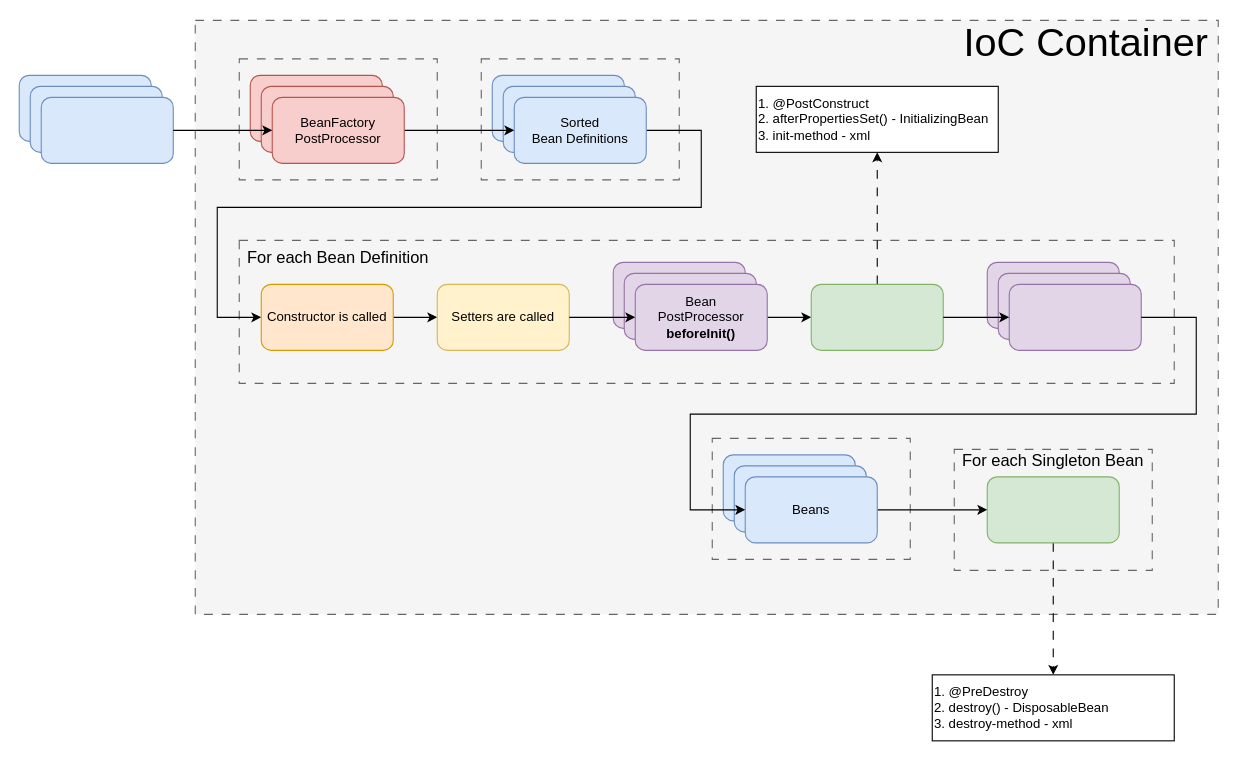
This 1238x760 diagram has some shape labels left out. Each missing label, with the centre of its shape:
Bean Definitions: [106,129]
Bean PostProcessor afterInit(): [1074,316]
Destruction callbacks: [1052,509]
Initialization callbacks: [876,316]
